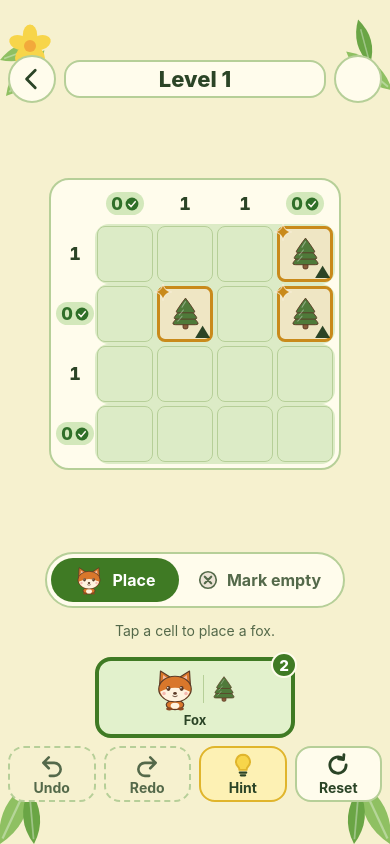
hints on the puzzle screen › a board change clears the hint
What coordinates should you click on to do the following:
click the button with test id "action-hint"
I would click on:
 (243, 774)
Its box is [199,746,286,802].
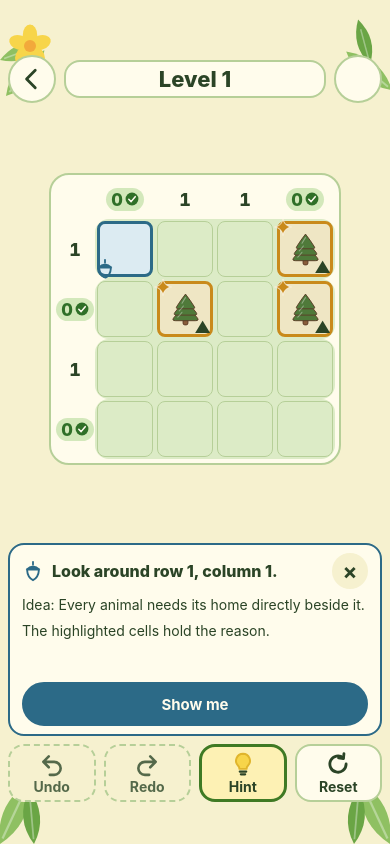
Check: the element with test id "hint-panel" is shown, box [8,543,382,736]
What coordinates should you click on to do the following:
click the button named "Row 4, column 4: unmarked"
I would click on:
 (305, 429)
Its box is [275,399,335,459].
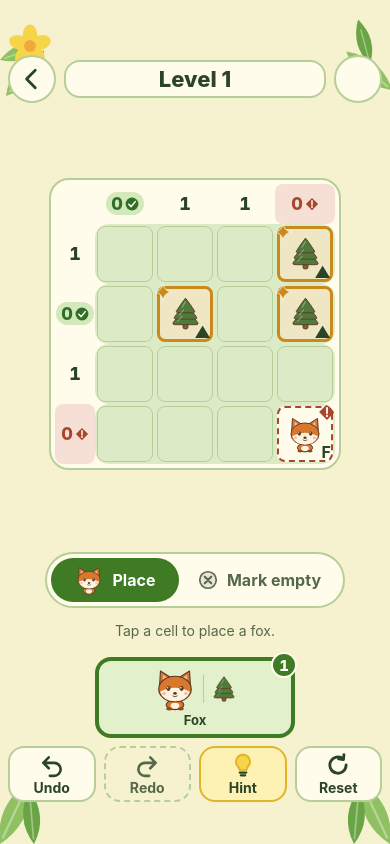
Check: the element with test id "hint-panel" is gone
